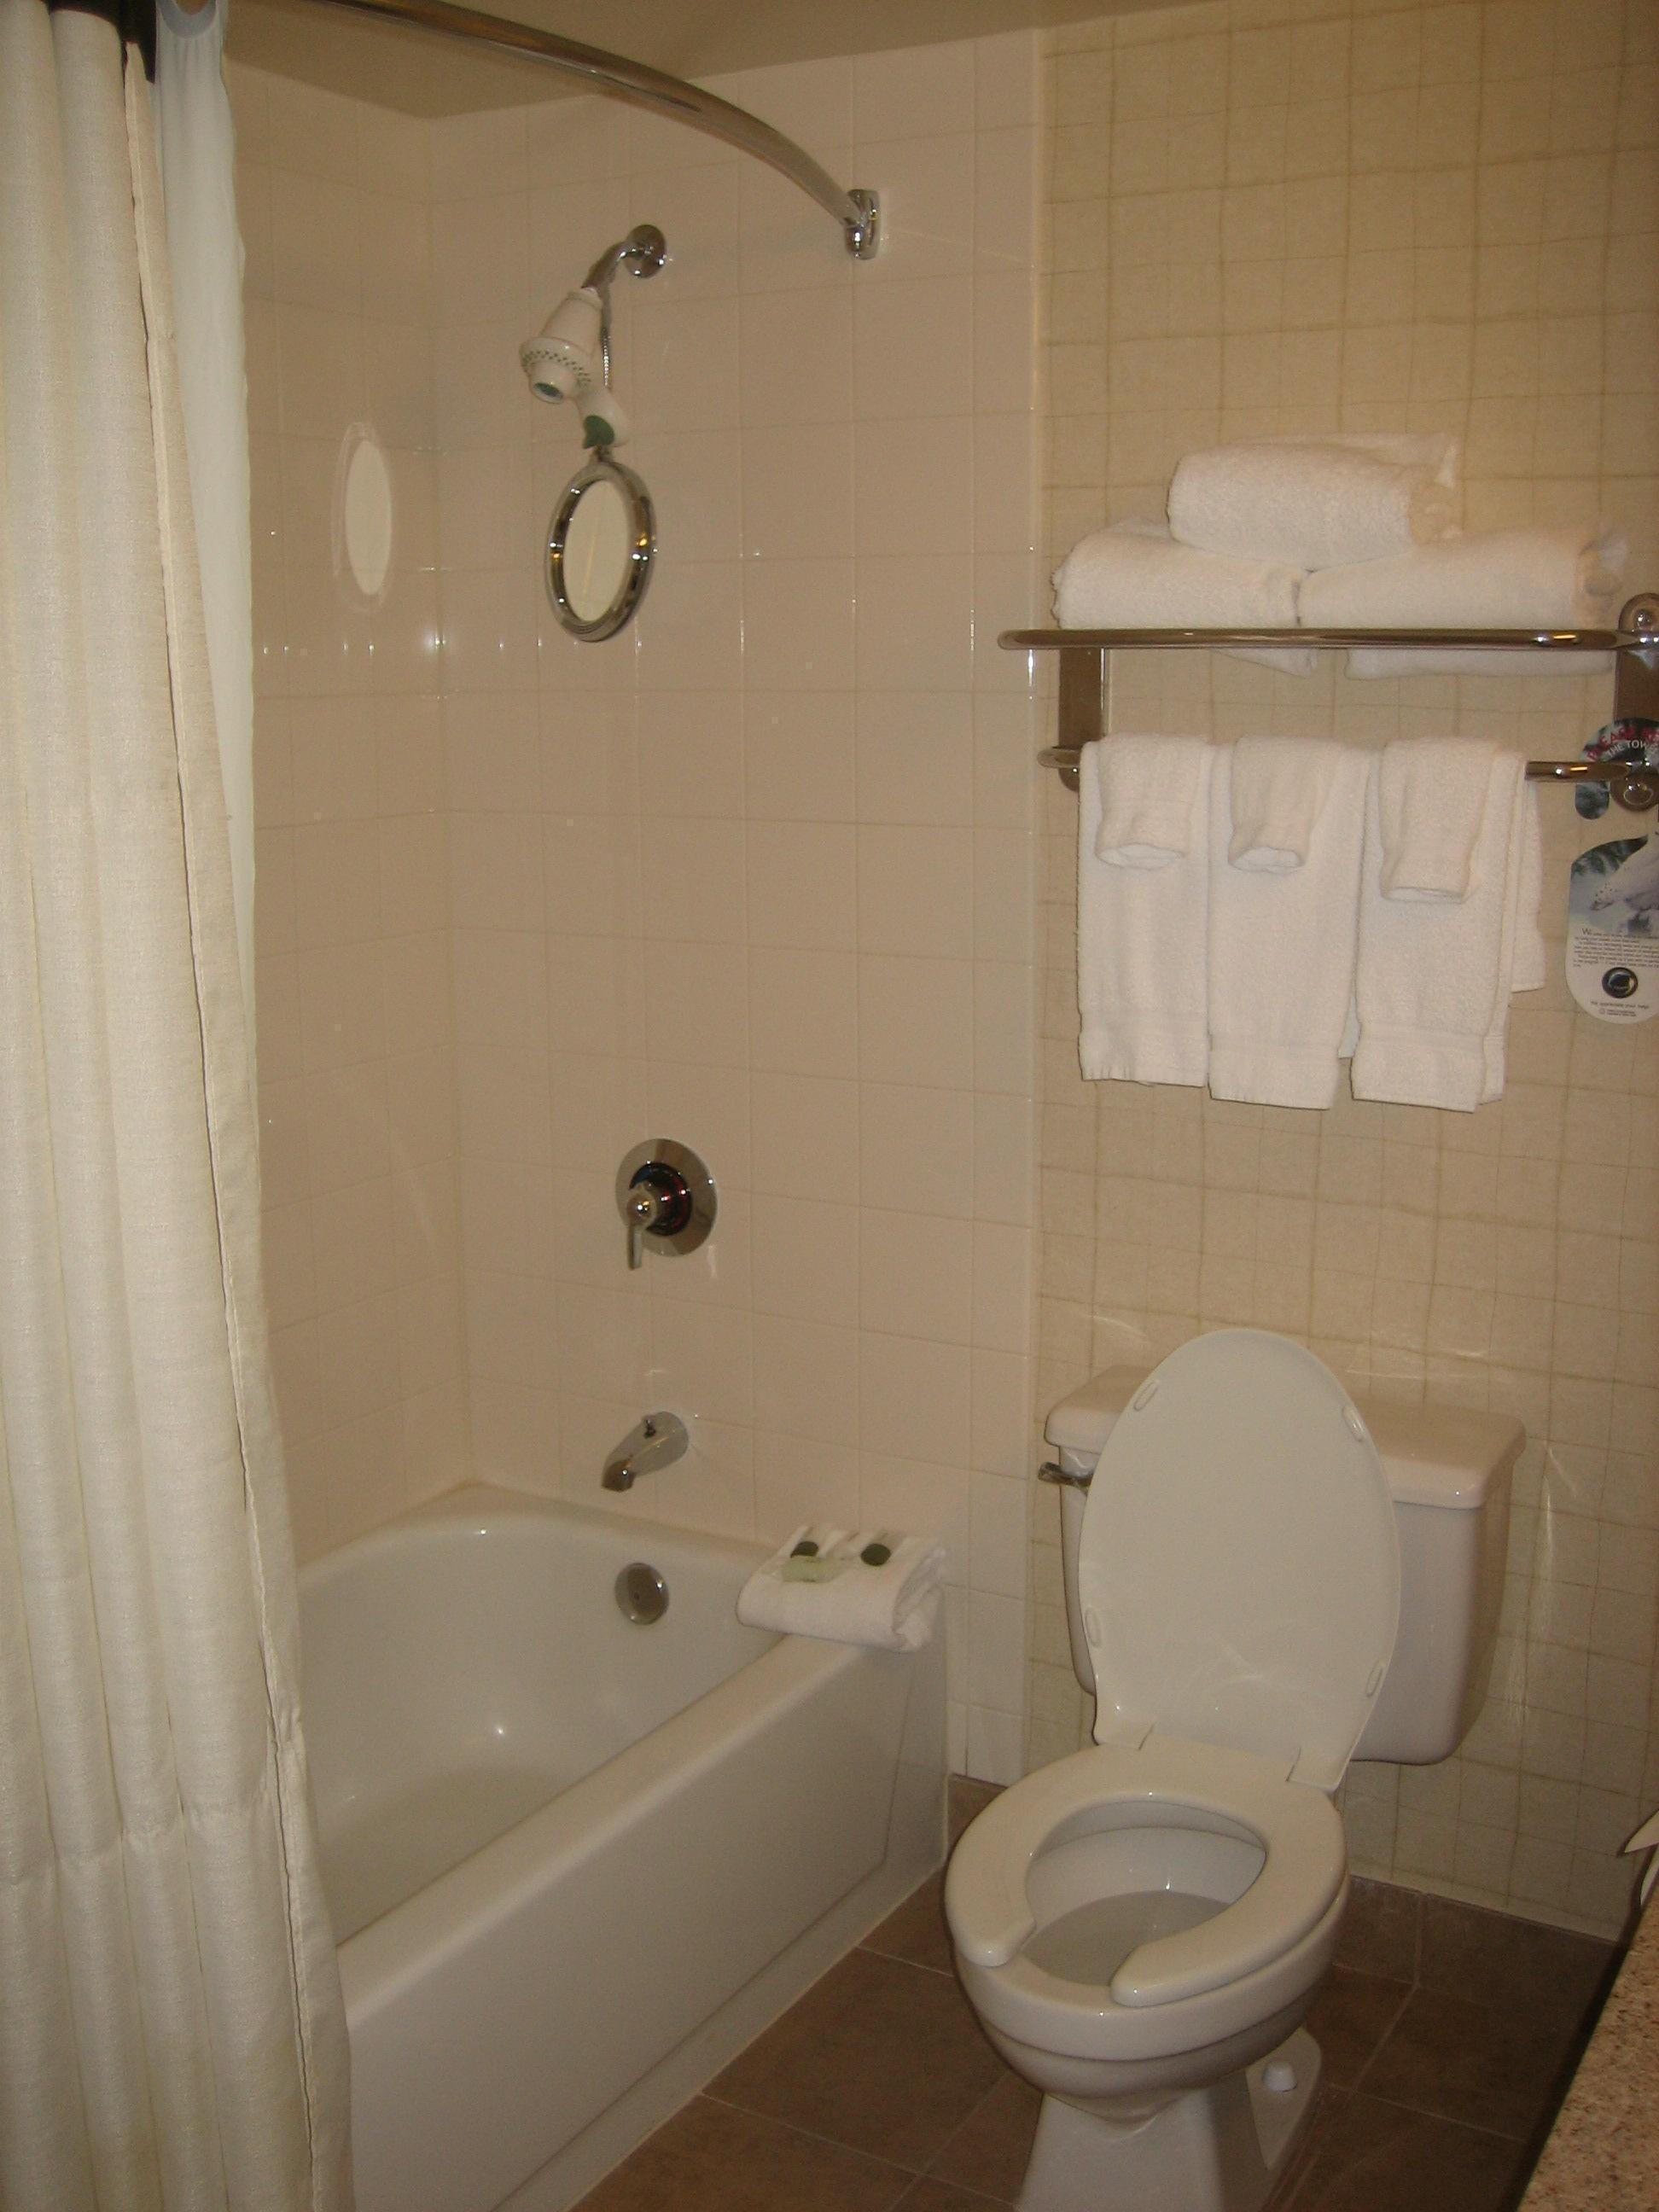Ducha: (56, 57, 988, 2202)
Sanitario: (995, 1301, 1535, 2198)
